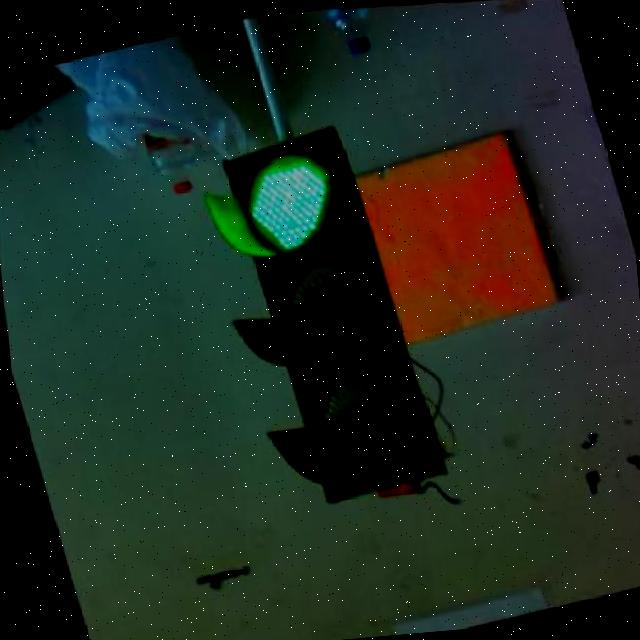green_light: (182, 111, 440, 518)
